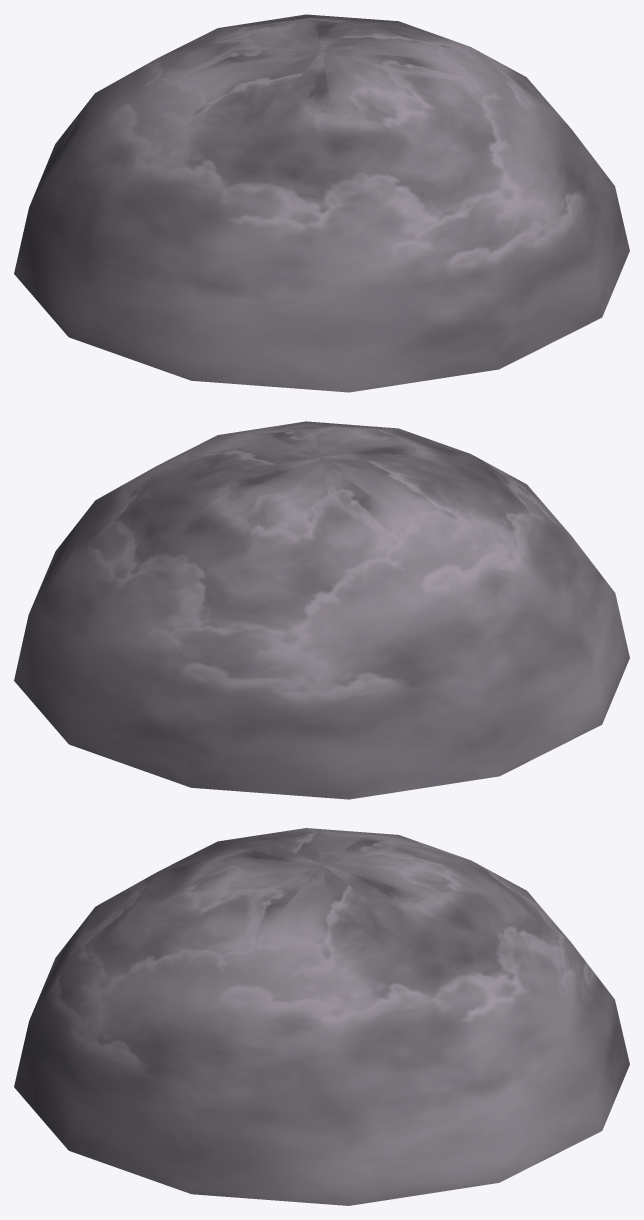
File: env_man_concorddawn_pre.glb
3 views of the same model, one above another, from view 1: azimuth 30°, elevation 25°; view 2: azimuth 150°, elevation 25°; view 3: azimuth 270°, elevation 25° (orthographic).
Visible parts, largest first — view 1: skybox_01_mesh (2); view 2: skybox_01_mesh (2); view 3: skybox_01_mesh (2).
Boxes of the visible parts, x1=… form: skybox_01_mesh (2): x1=14, y1=14, x2=629, y2=392; skybox_01_mesh (2): x1=14, y1=421, x2=629, y2=799; skybox_01_mesh (2): x1=14, y1=828, x2=629, y2=1205.
Size of the model in its own units: 352 by 136 by 352.
19 materials, 19 textured.
